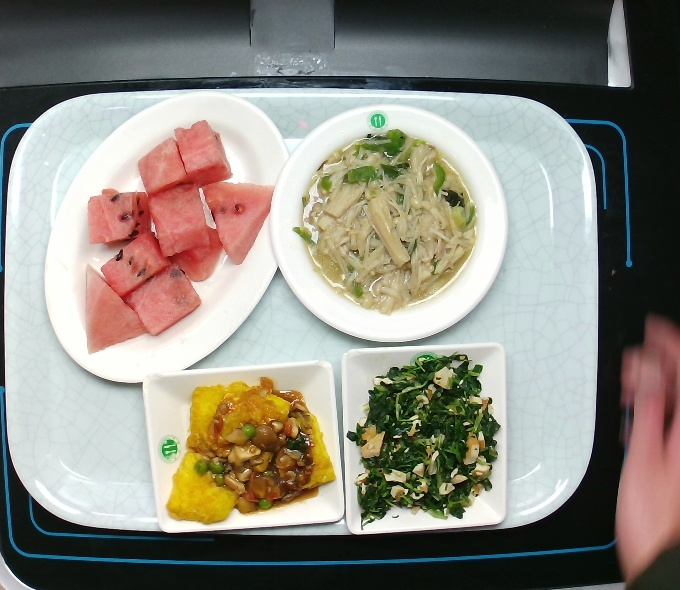wcq-CuiPiDouFu: (164, 379, 338, 528)
wcq-JinZhenGu: (299, 126, 479, 314)
wcq-MaLanTouChaoDouGan: (352, 350, 504, 524)
wcq-XiGua: (78, 117, 280, 358)
